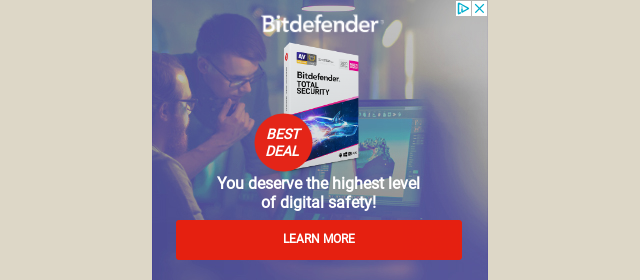fake_button: (163, 219, 466, 269)
